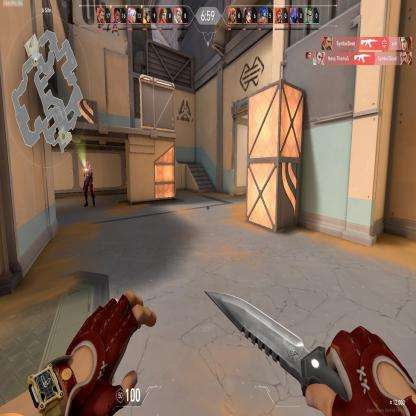enemy: (82, 160, 96, 208)
